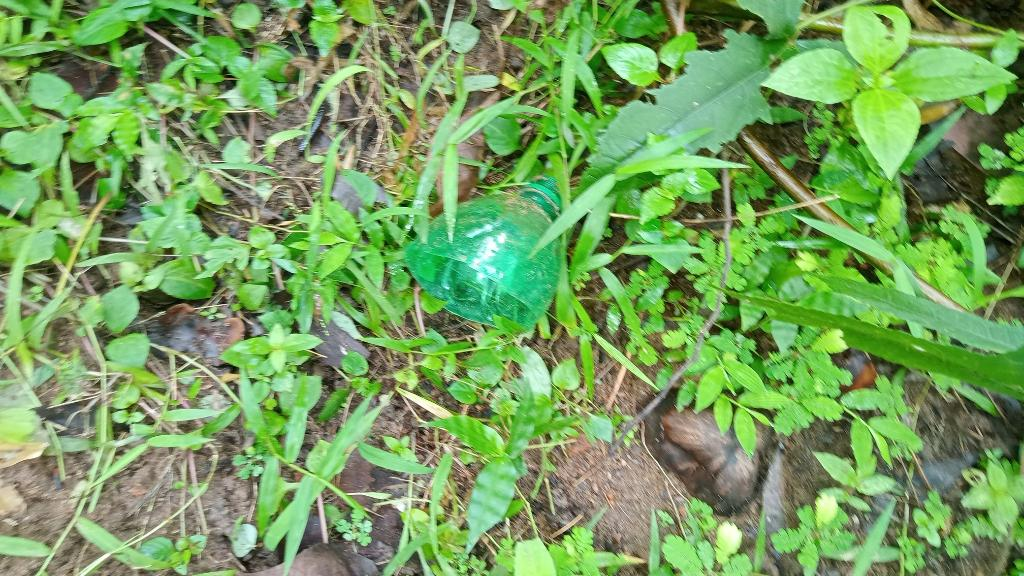garbage: (399, 153, 610, 340)
